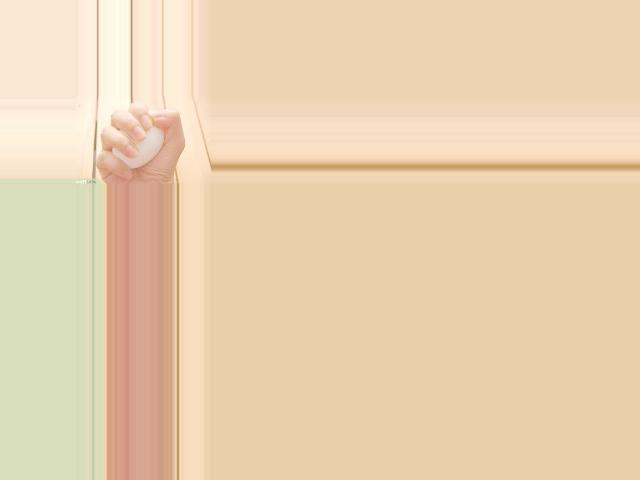egg: (111, 121, 164, 169)
